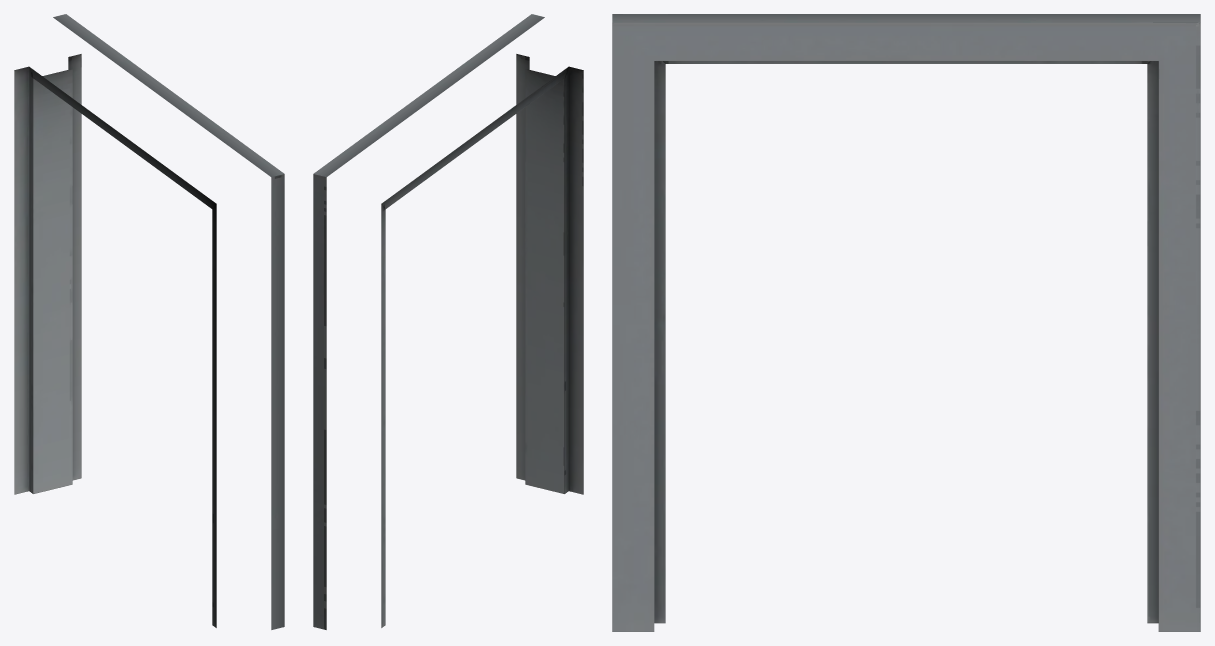
The picture shows the model from 3 angles, left to right: view 1: azimuth 30°, elevation 25°; view 2: azimuth 150°, elevation 25°; view 3: azimuth 270°, elevation 25°; orthographic projection. The views are drawn at different scales.
Parts seen in each view (by area): view 1: body0_model0_lod0_mesh0; view 2: body0_model0_lod0_mesh0; view 3: body0_model0_lod0_mesh0.
Boxes of the visible parts, left/top/right/bottom form: body0_model0_lod0_mesh0: left=14, top=14, right=284, bottom=629; body0_model0_lod0_mesh0: left=313, top=14, right=583, bottom=629; body0_model0_lod0_mesh0: left=612, top=14, right=1200, bottom=631.
Size of the model in its own units: 20 by 128 by 112.
1 material, 1 textured.
